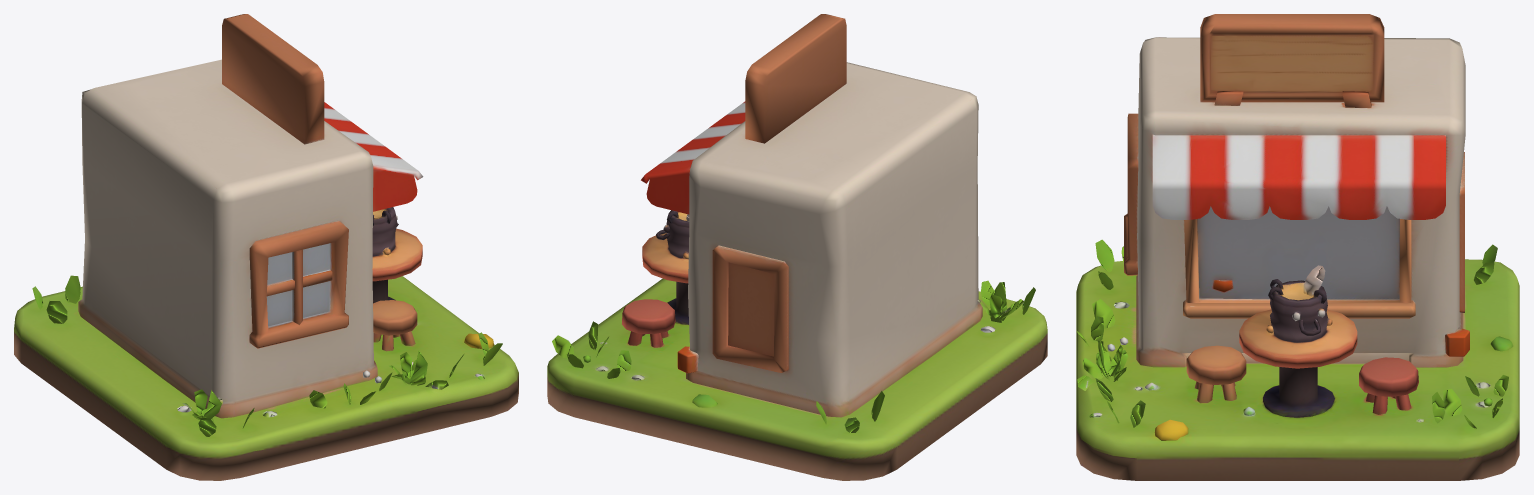
The model's file is cantina.glb.
3 views of the same model, side by side, from view 1: azimuth 30°, elevation 25°; view 2: azimuth 150°, elevation 25°; view 3: azimuth 270°, elevation 25° (orthographic). The views are drawn at different scales.
Parts seen in each view (by area): view 1: tripo_node_2e4f5acf-cfea-48ee-be56-b44cd3302c45; view 2: tripo_node_2e4f5acf-cfea-48ee-be56-b44cd3302c45; view 3: tripo_node_2e4f5acf-cfea-48ee-be56-b44cd3302c45.
Part boxes in pixels (box(x1,y1,x2,y2)): tripo_node_2e4f5acf-cfea-48ee-be56-b44cd3302c45: box(14, 14, 518, 480); tripo_node_2e4f5acf-cfea-48ee-be56-b44cd3302c45: box(547, 14, 1047, 480); tripo_node_2e4f5acf-cfea-48ee-be56-b44cd3302c45: box(1076, 14, 1519, 480).
Bounding box in the file's own units: 0.998 × 0.9199 × 0.998.
Materials: 1 (1 with a texture image).
